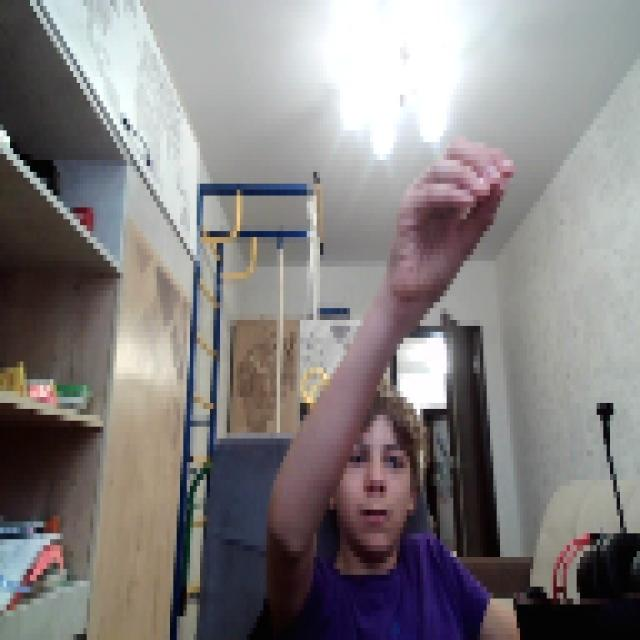left_click: (387, 130, 513, 302)
